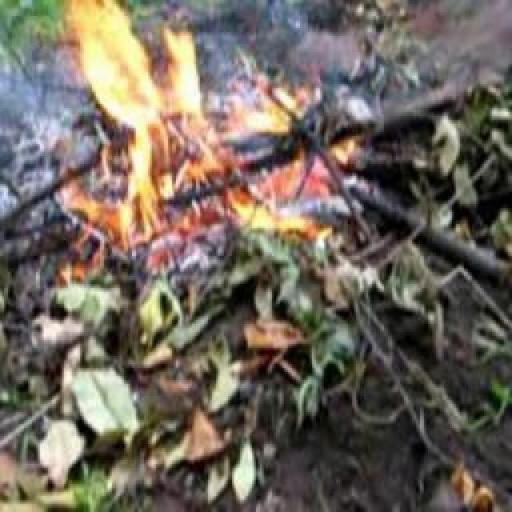smoke: (50, 0, 304, 245)
